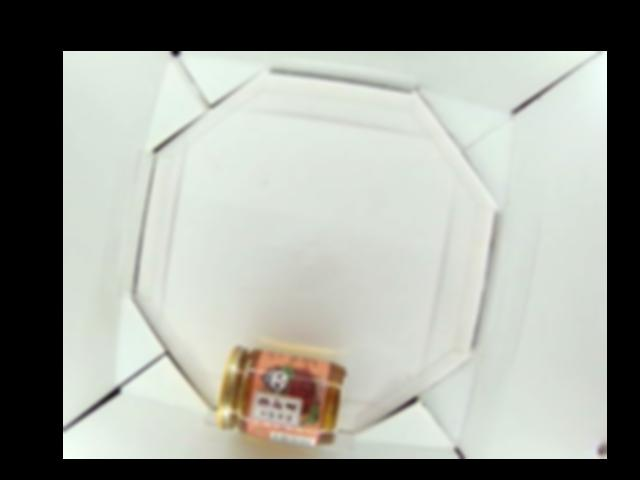Bottle: (216, 345, 349, 444)
